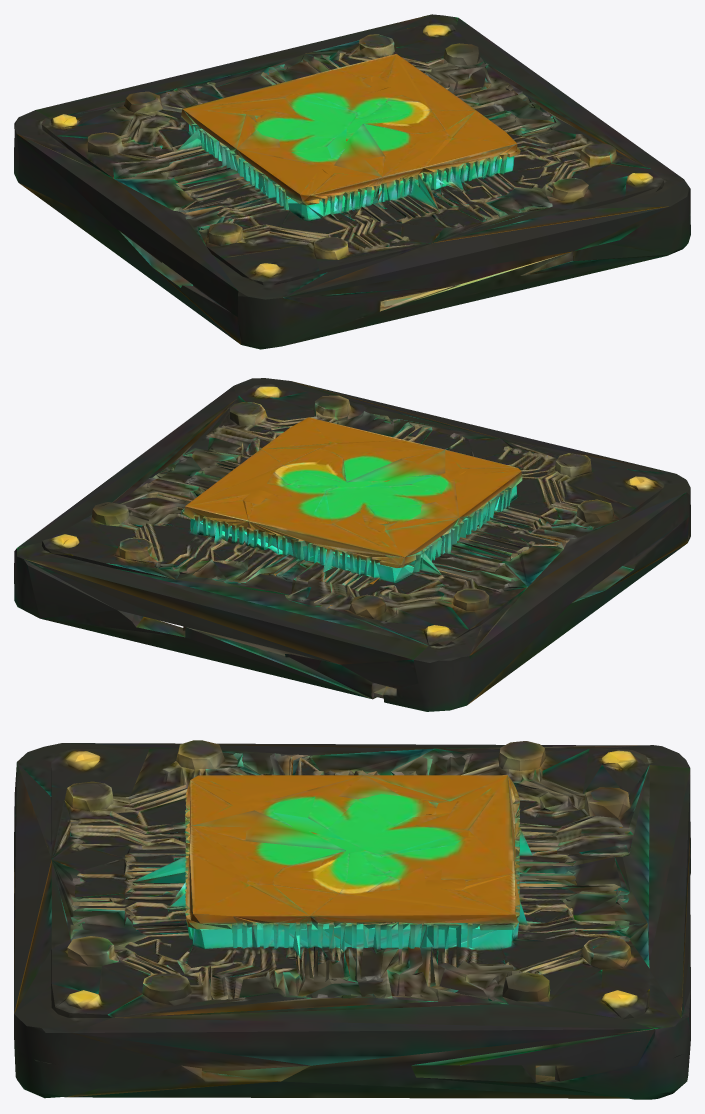
The model's file is mx_gr_chip_luck.glb.
The picture shows the model from 3 angles, top to bottom: view 1: azimuth 30°, elevation 25°; view 2: azimuth 150°, elevation 25°; view 3: azimuth 270°, elevation 25°; orthographic projection. The views are drawn at different scales.
Size of the model in its own units: 1.9 by 0.3471 by 1.87.
Materials: 1 (1 with a texture image).
